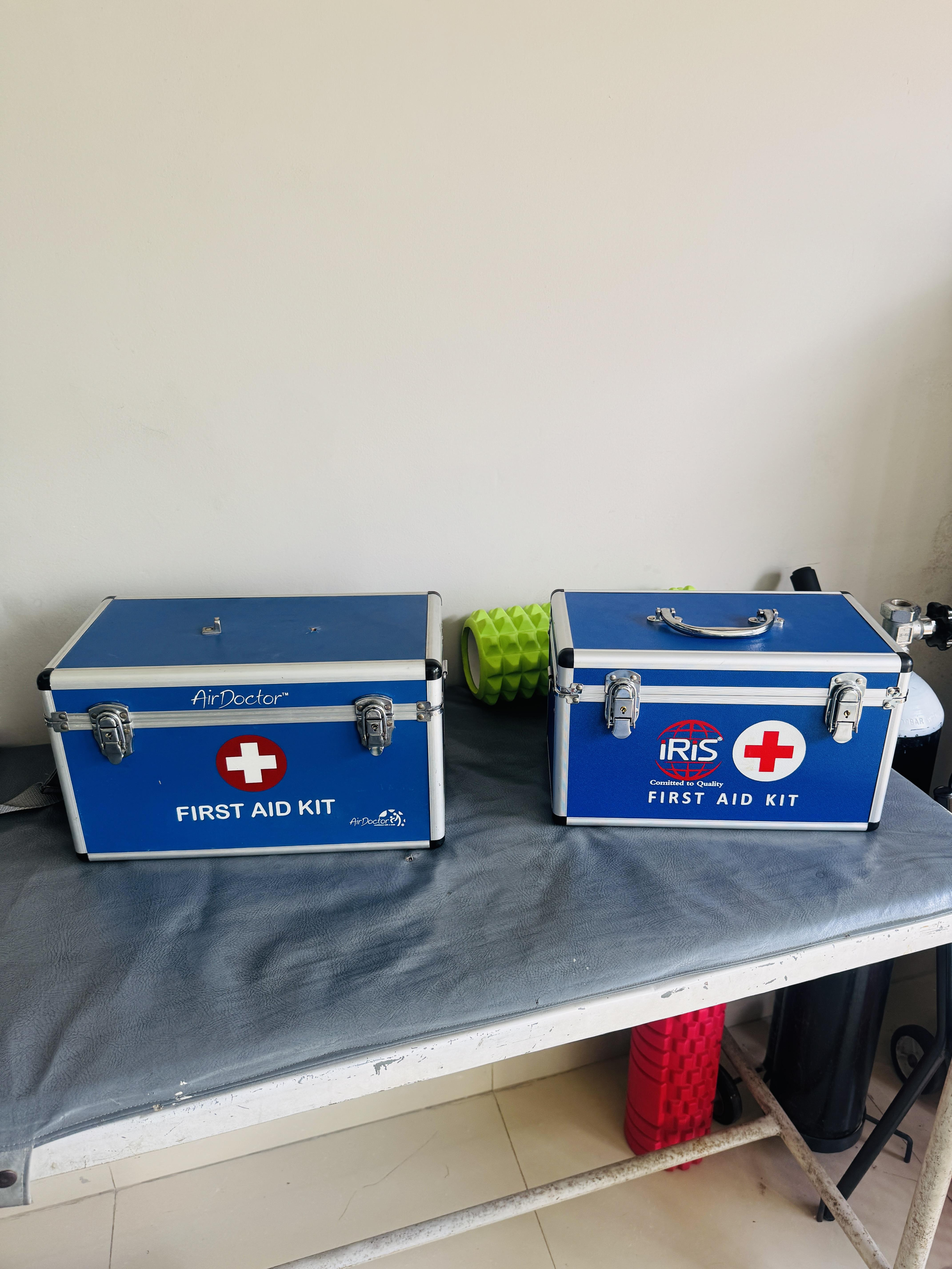FirstAidBox: (31, 582, 464, 886), (532, 564, 912, 846)
